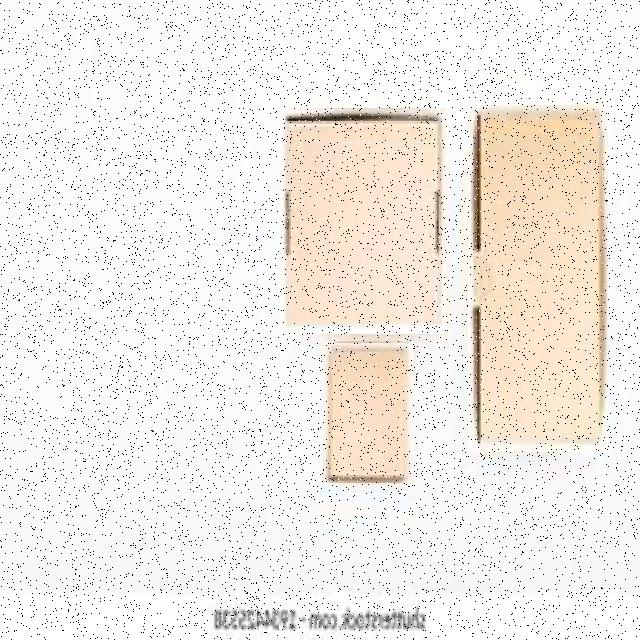normal: (468, 105, 608, 452), (279, 108, 446, 334), (323, 343, 414, 483)
